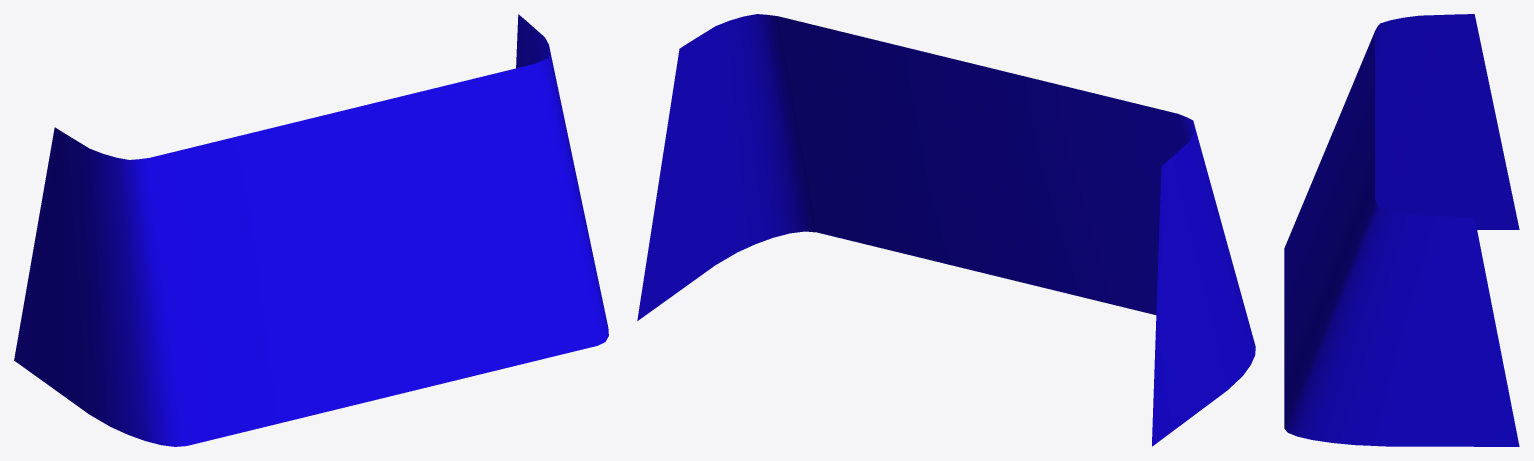
Rendered from SM_JukeGlass.FBX.
3 views of the same model, side by side, from view 1: azimuth 30°, elevation 25°; view 2: azimuth 150°, elevation 25°; view 3: azimuth 270°, elevation 25° (orthographic). The views are drawn at different scales.
Parts seen in each view (by area): view 1: Glass 2; view 2: Glass 2; view 3: Glass 2.
Boxes of the visible parts, x1,y1,x2,y2 form: Glass 2: (14, 14, 608, 446); Glass 2: (637, 14, 1255, 446); Glass 2: (1284, 14, 1519, 446).
Size of the model in its own units: 154 by 73.57 by 70.33.
